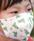with_mask: (1, 2, 34, 41)
